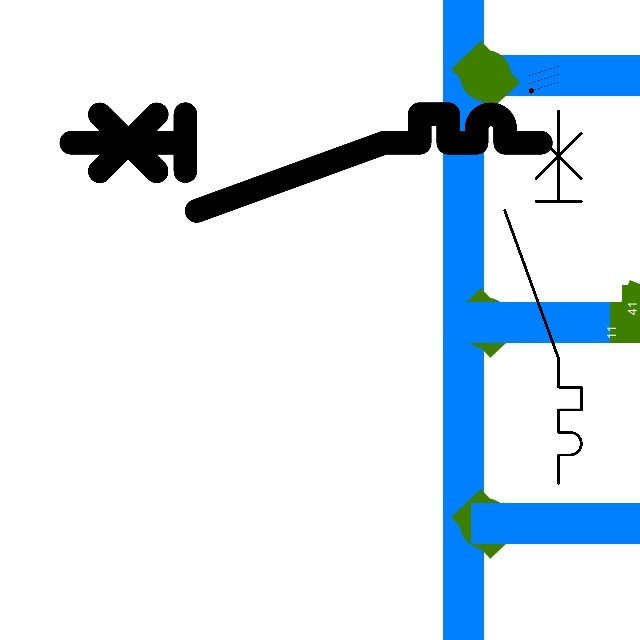interruptor_termomagnetico: (59, 102, 553, 223), (495, 101, 591, 492)
